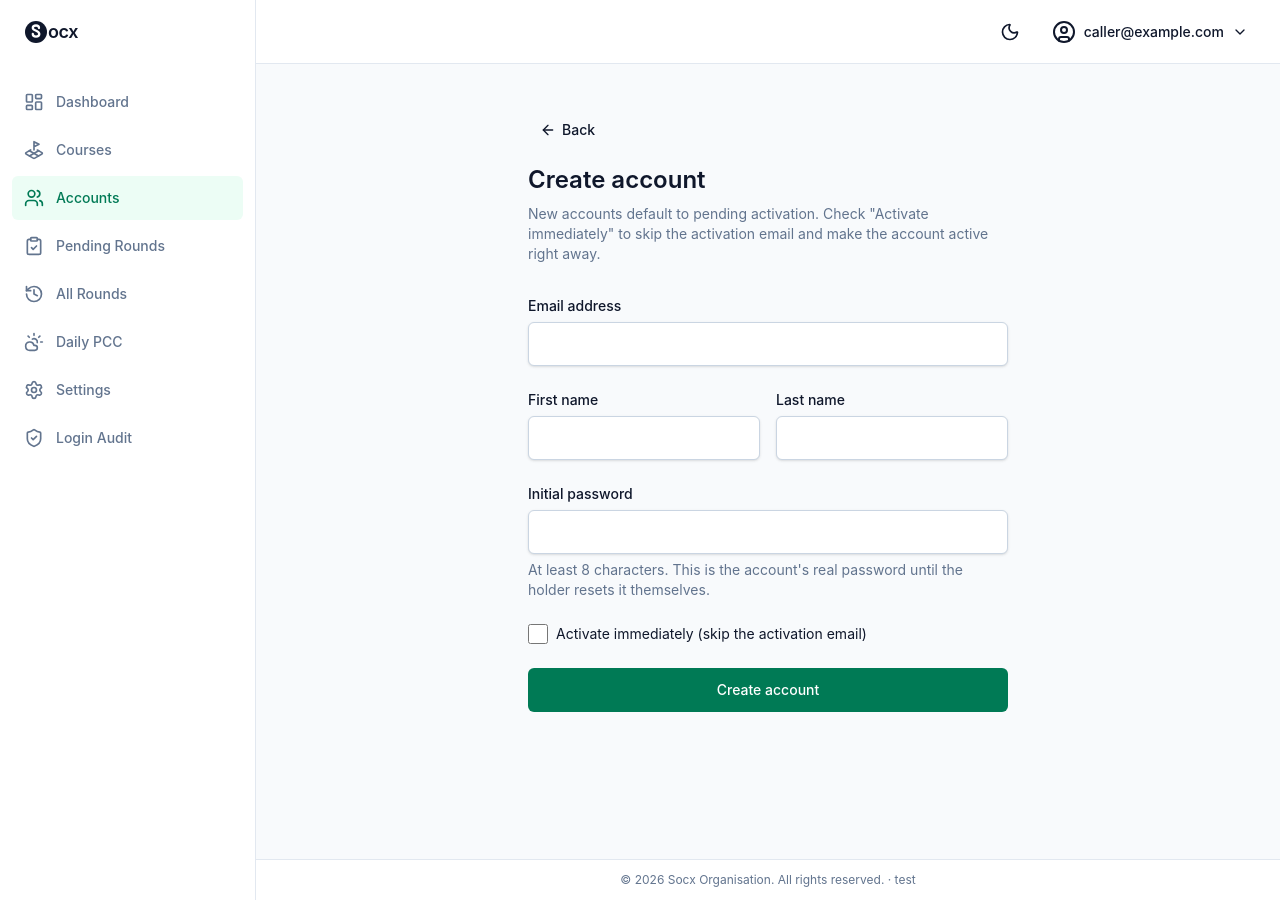
Test case: AdminCreateUserPage › shows immediately-active feedback when 'Activate immediately' is checked
Type "new.player@example.com" into the field labelled "Email address" at (768,344), box [528, 322, 1008, 366]
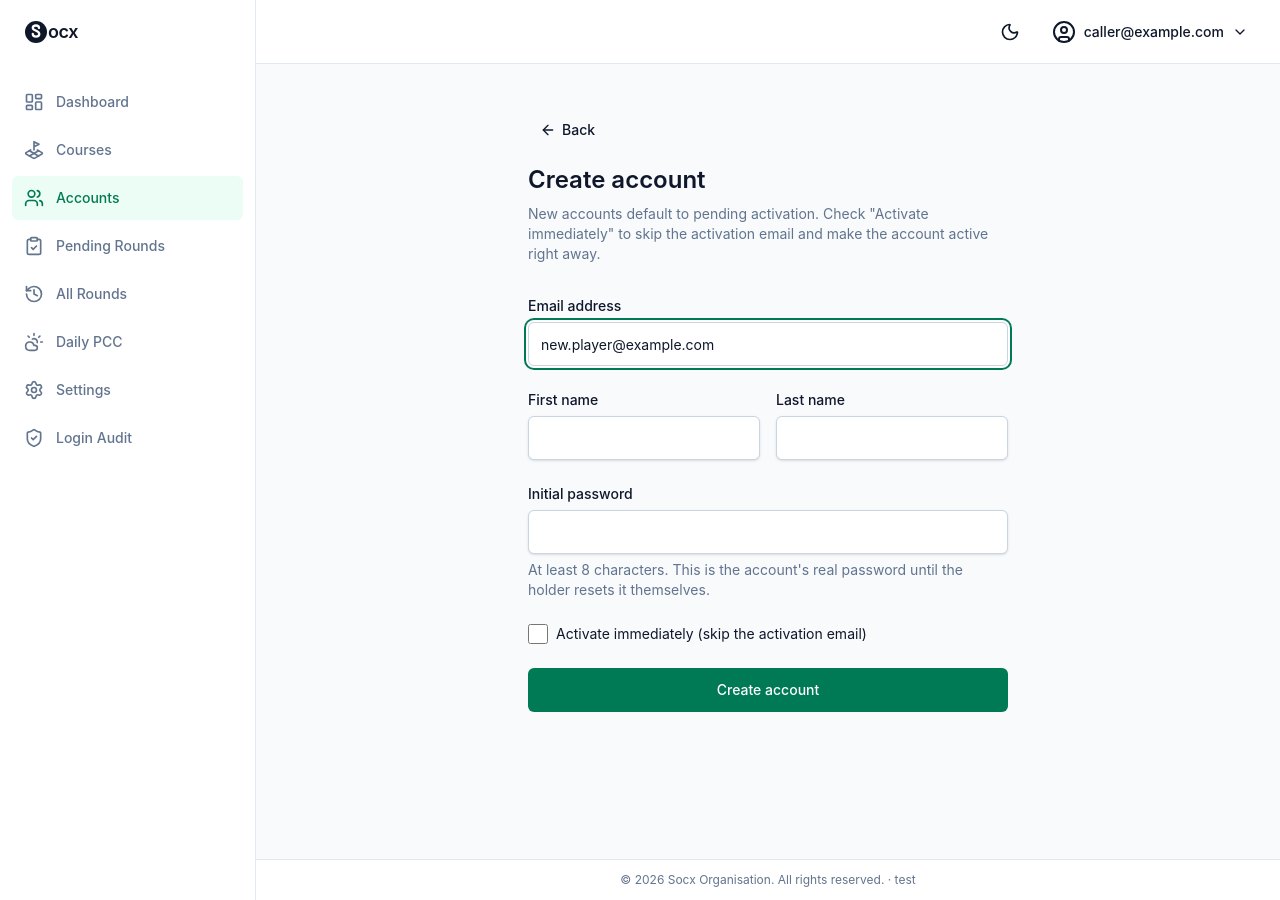
Type "New" into the field labelled "First name" at (644,438), box [528, 416, 760, 460]
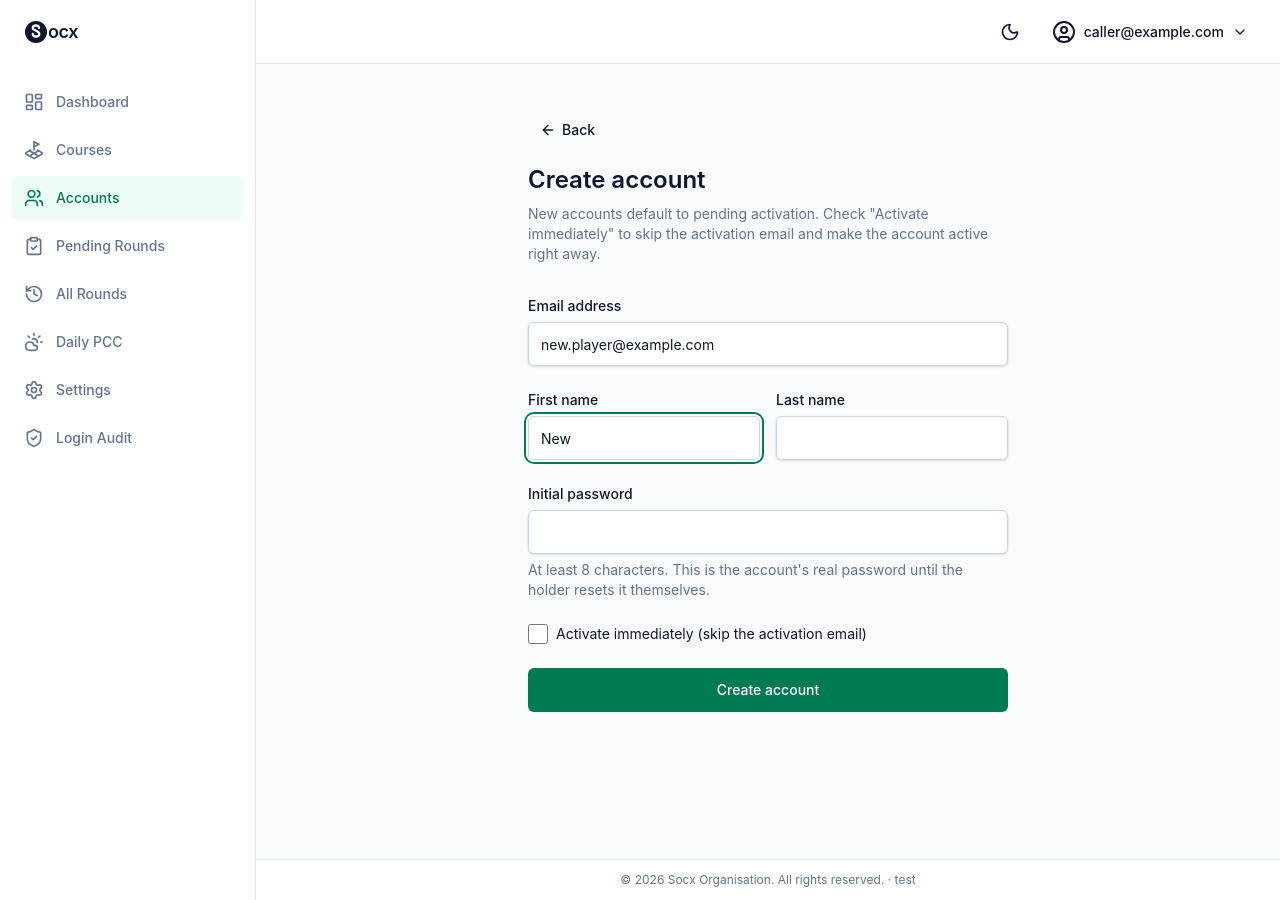
Type "Player" into the field labelled "Last name" at (892,438), box [776, 416, 1008, 460]
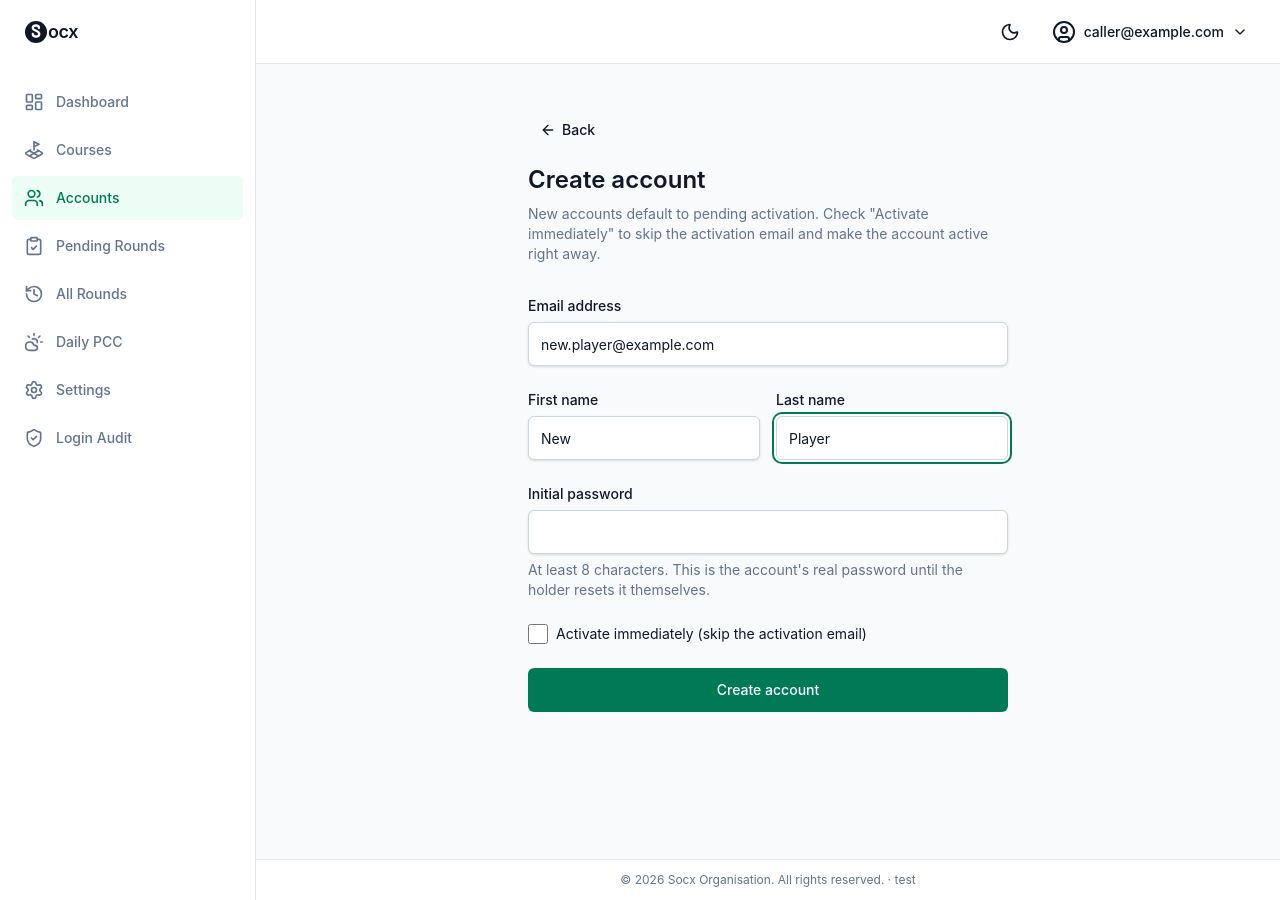
Type "correct-horse-battery-1" into the password field labelled "Initial password" at (768,532), box [528, 510, 1008, 554]
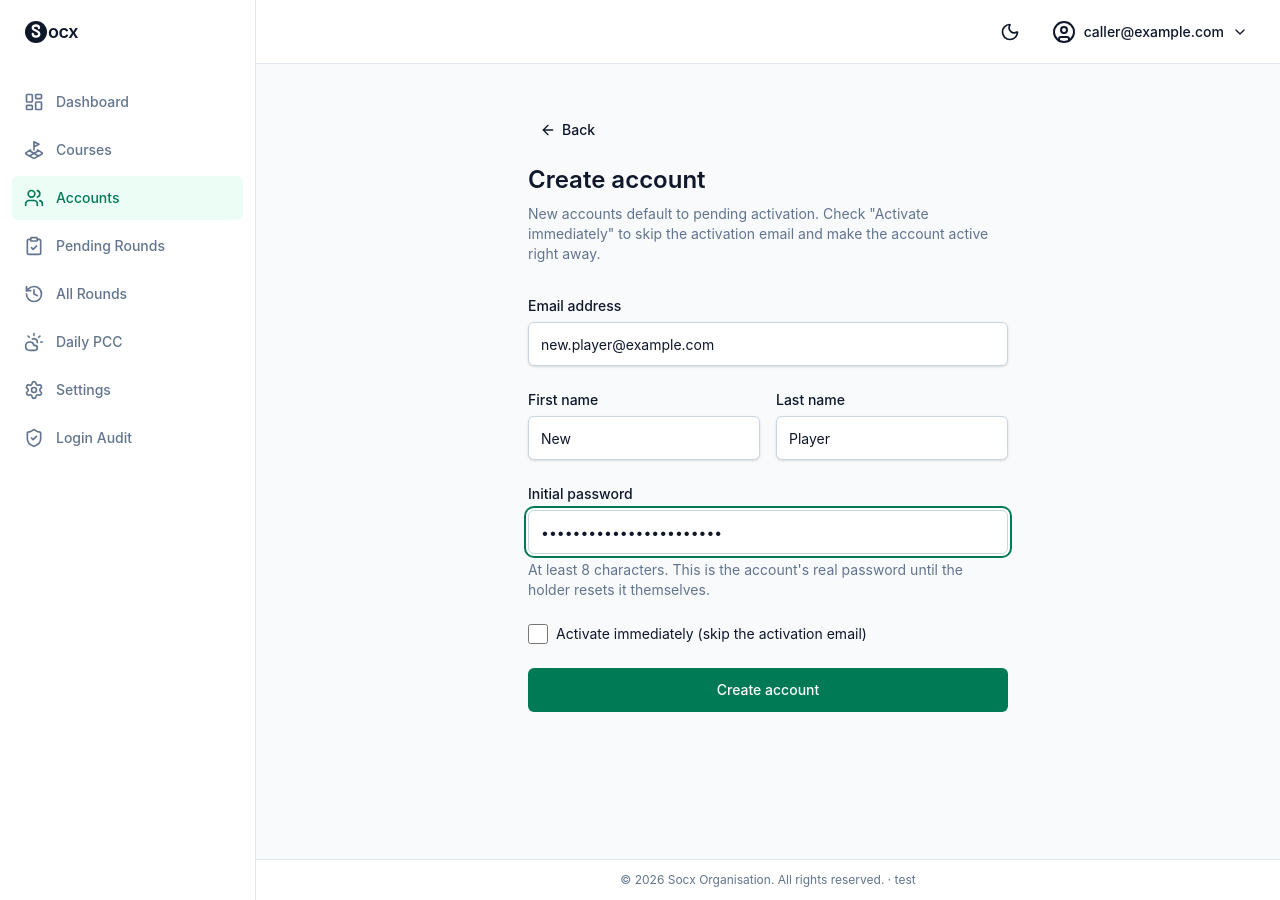
Click the checkbox labelled "Activate immediately (skip the activation email)" at (538,634), box [528, 624, 548, 644]
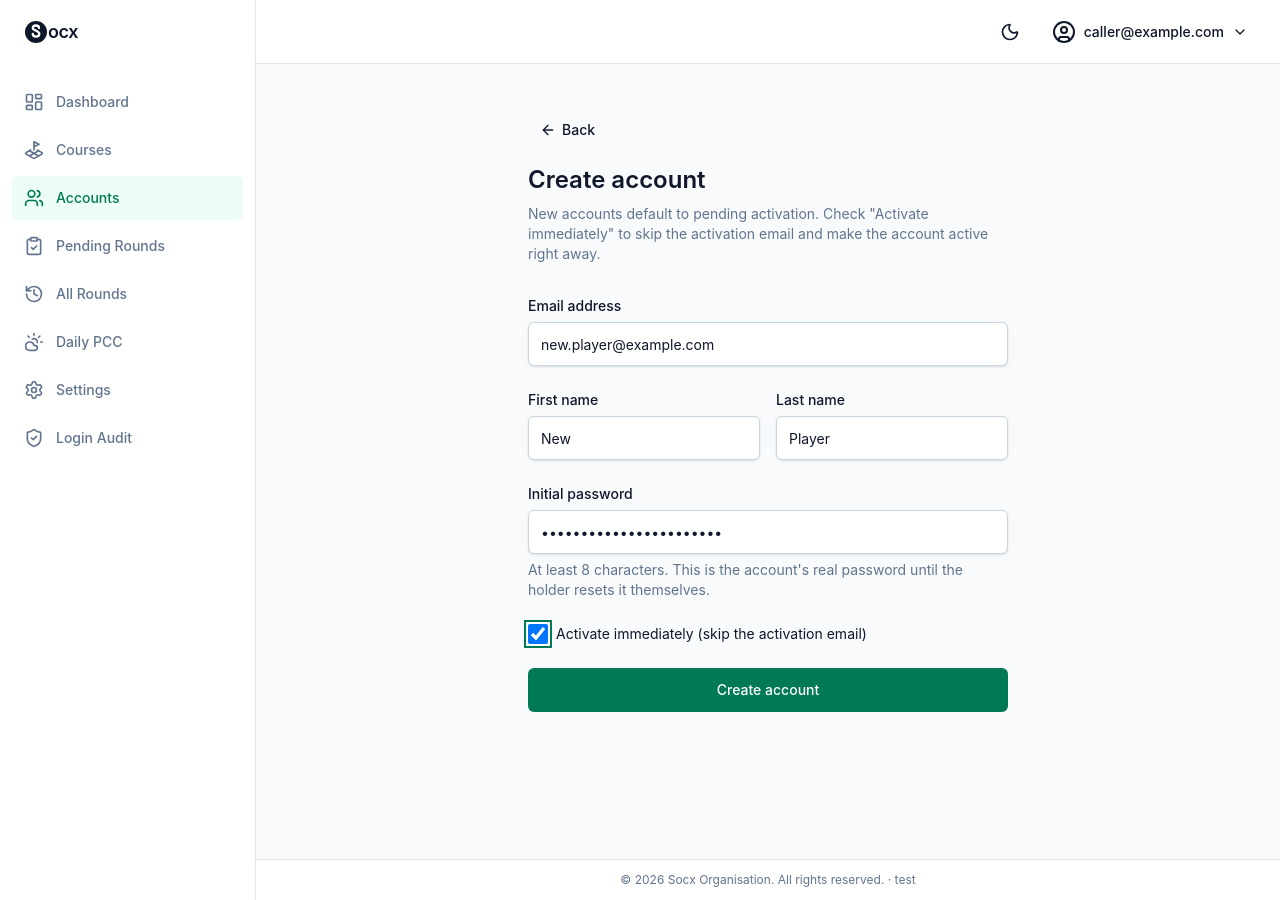
Click the button "Create account" at (768,690), box [528, 668, 1008, 712]
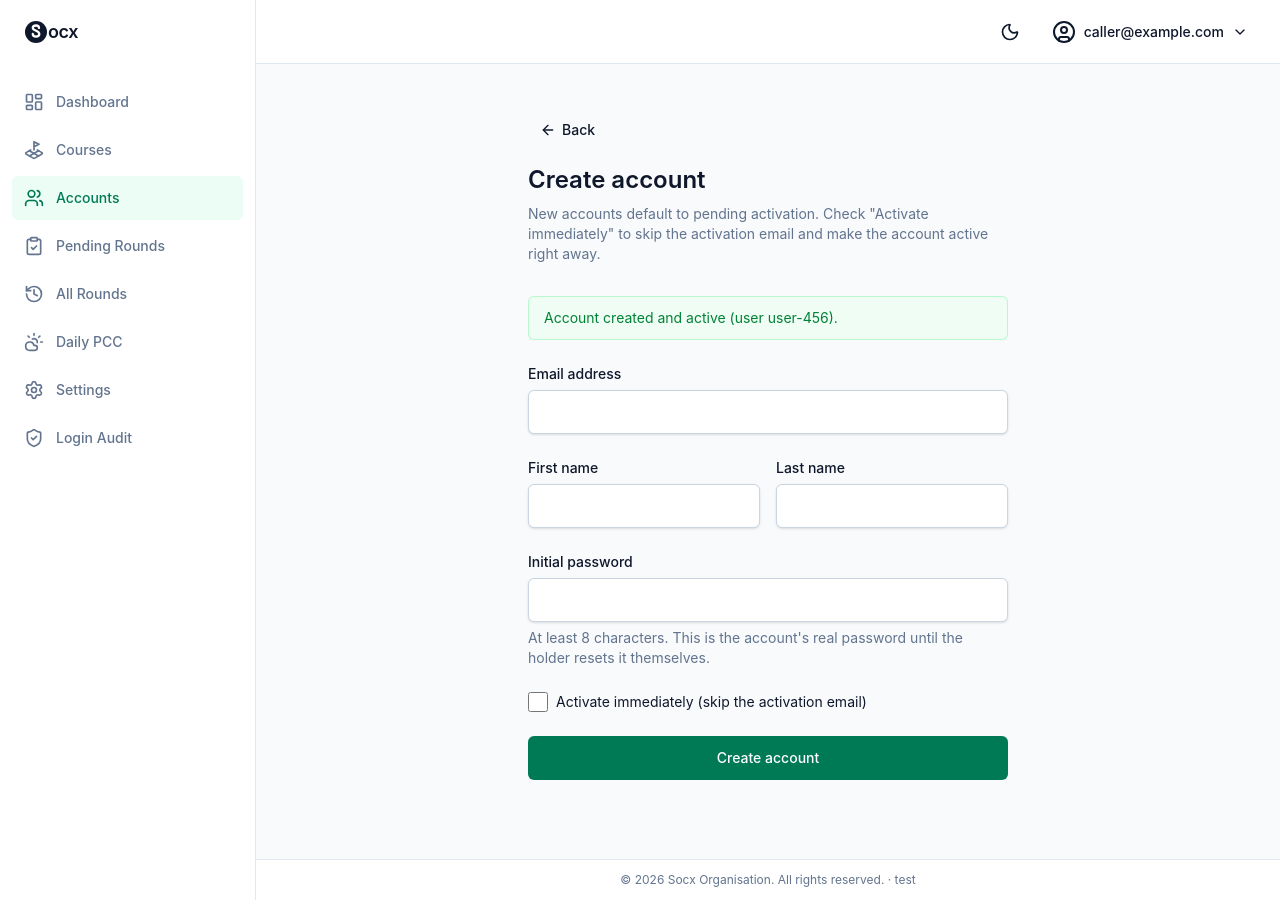
Result: the message shows "Account created and active" at [544, 309, 838, 326]
